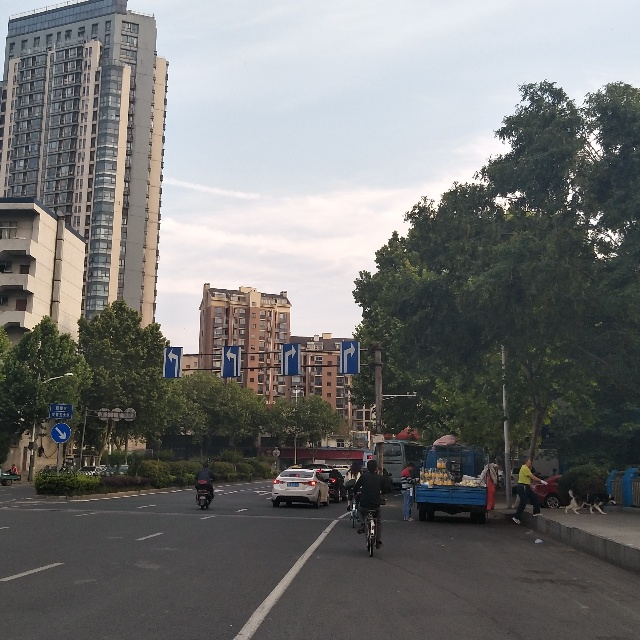left: (157, 342, 184, 382), (221, 342, 246, 380)
right: (338, 340, 362, 378), (281, 341, 302, 375)
